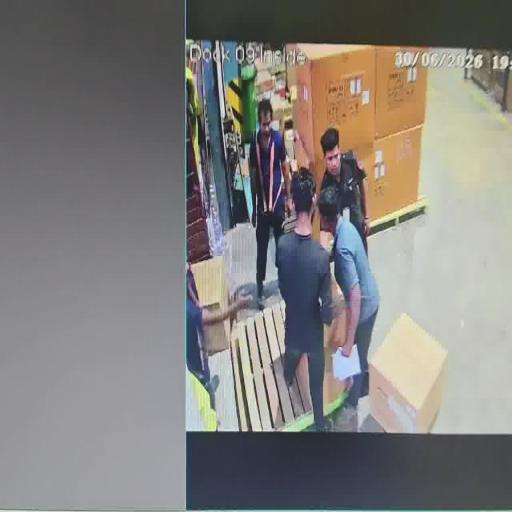carton: (368, 309, 448, 434), (294, 50, 374, 160), (375, 47, 429, 139), (368, 127, 420, 219), (188, 250, 231, 360), (295, 348, 352, 412), (295, 132, 322, 195), (325, 297, 350, 354)
pallet: (232, 297, 355, 433), (370, 198, 428, 236)
person: (275, 165, 333, 432), (315, 184, 380, 410), (248, 98, 294, 300), (186, 260, 252, 398), (320, 126, 372, 253)
